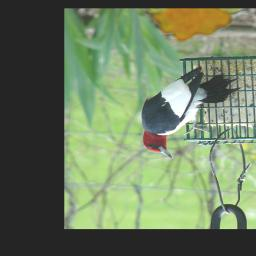Woodpecker: (142, 66, 241, 158)
